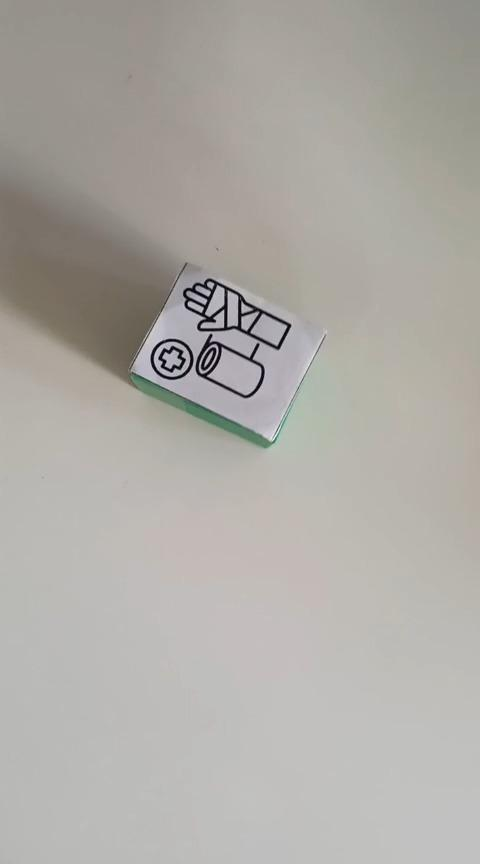Bandages: (127, 260, 327, 447)
